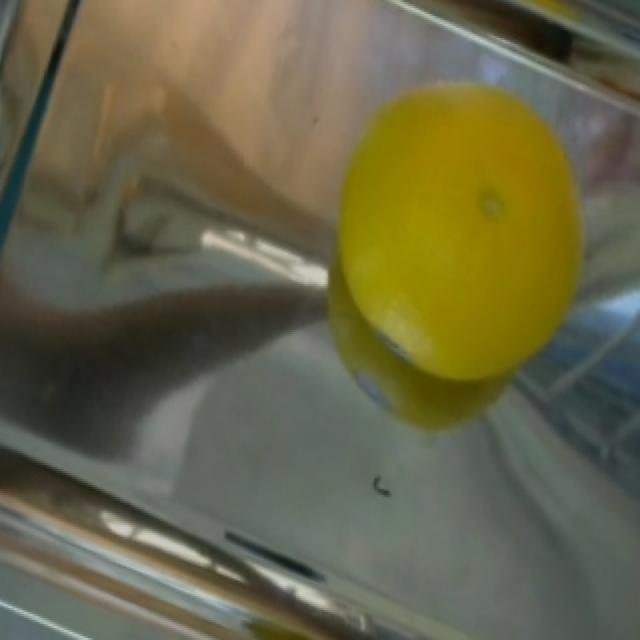Fruit: (317, 51, 616, 408)
